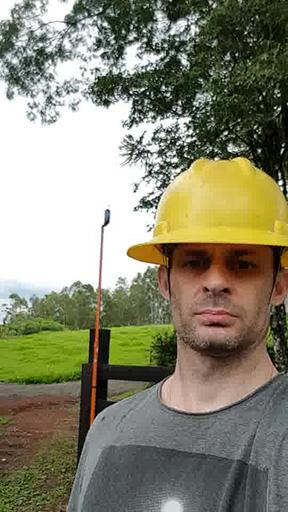Vara_Manobra: (87, 229, 105, 439)
